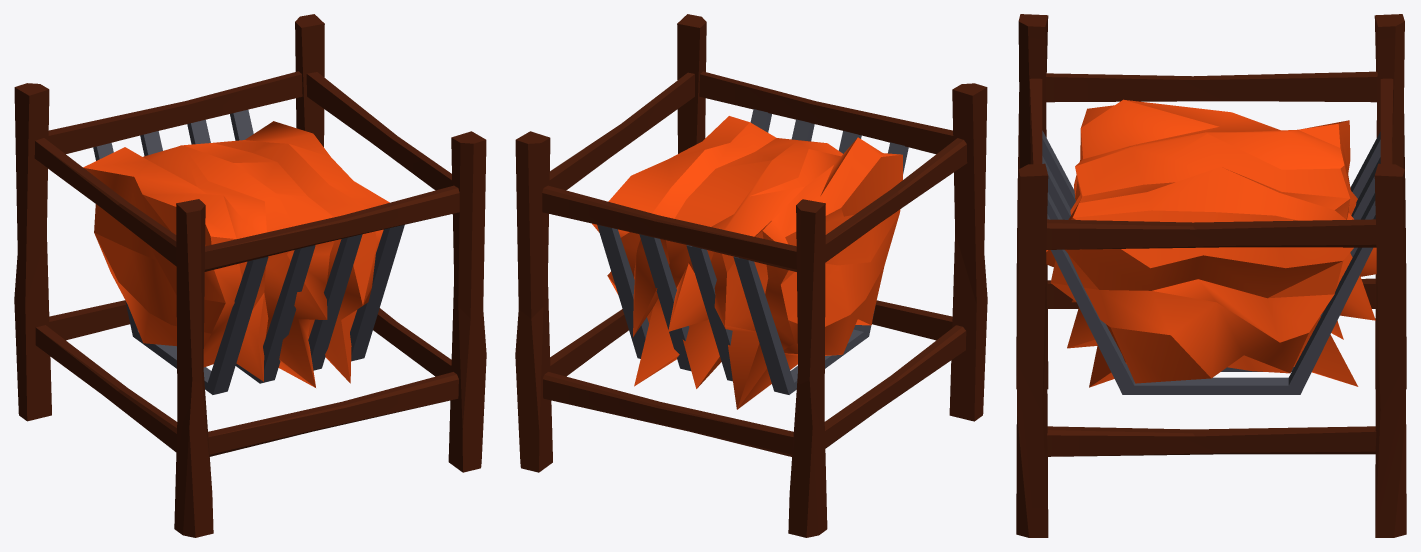
The model's file is Feeder_2_w_Hay_1.fbx.
3 renders of one model, left to right at view 1: azimuth 30°, elevation 25°; view 2: azimuth 150°, elevation 25°; view 3: azimuth 270°, elevation 25°, orthographic. The views are drawn at different scales.
Parts seen in each view (by area): view 1: Feeder_2_w_Hay_1; view 2: Feeder_2_w_Hay_1; view 3: Feeder_2_w_Hay_1.
Part boxes in pixels (x1,y1,x2,y2): Feeder_2_w_Hay_1: (14, 14, 486, 537); Feeder_2_w_Hay_1: (515, 14, 987, 537); Feeder_2_w_Hay_1: (1016, 14, 1406, 537).
Bounding box in the file's own units: 37.58 × 38.94 × 38.09.
